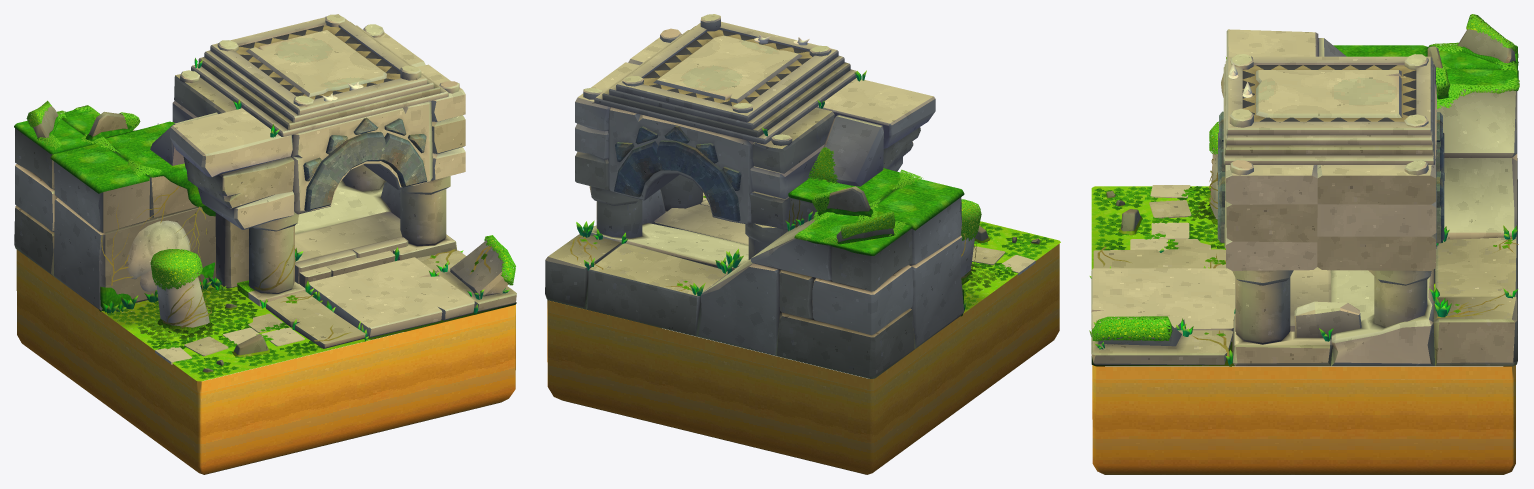
Rendered from season1-opening.glb.
The picture shows the model from 3 angles, left to right: view 1: azimuth 30°, elevation 25°; view 2: azimuth 150°, elevation 25°; view 3: azimuth 270°, elevation 25°; orthographic projection. The views are drawn at different scales.
Parts seen in each view (by area): view 1: obj632-Season1OpeningStepA; view 2: obj632-Season1OpeningStepA; view 3: obj632-Season1OpeningStepA.
Boxes of the visible parts, box(x1,y1,x2,y2) form: obj632-Season1OpeningStepA: box(14, 14, 516, 474); obj632-Season1OpeningStepA: box(545, 14, 1060, 474); obj632-Season1OpeningStepA: box(1089, 14, 1519, 474).
Size of the model in its own units: 1576 by 1336 by 1514.
Materials: 57 (51 with a texture image).
